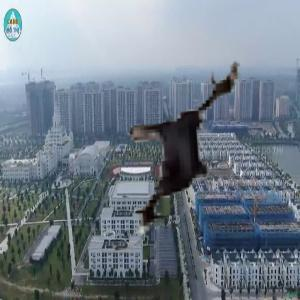drone: (65, 43, 289, 267)
